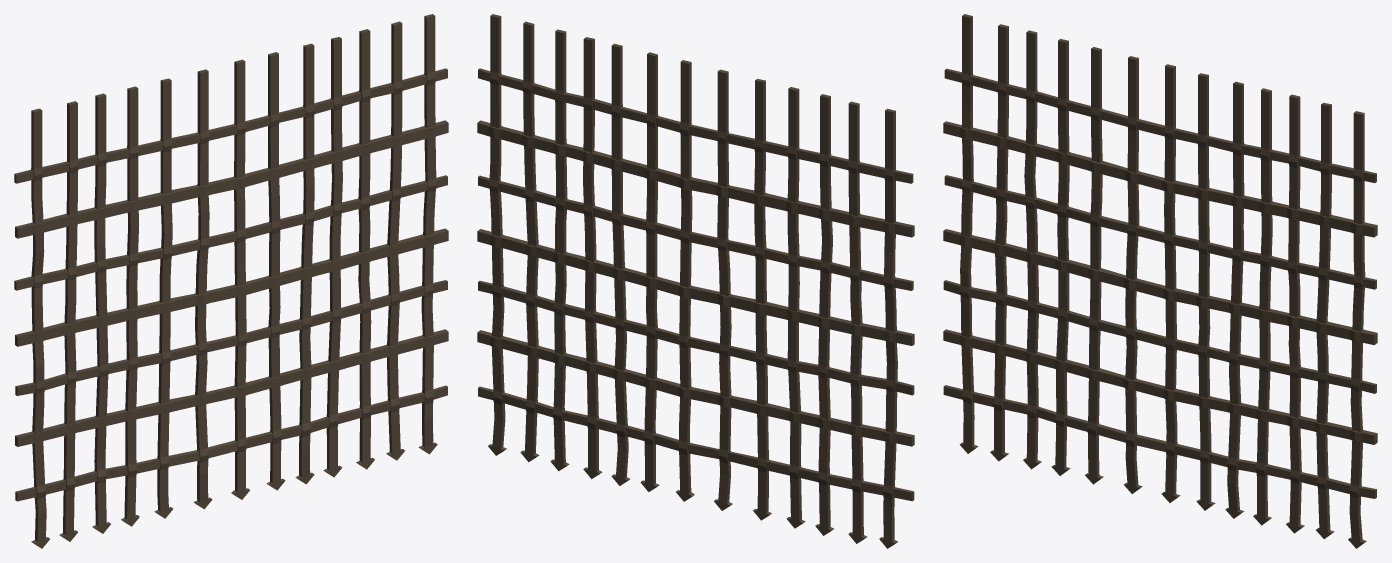
File: metal_grate.gltf
The picture shows the model from 3 angles, left to right: view 1: azimuth 30°, elevation 25°; view 2: azimuth 150°, elevation 25°; view 3: azimuth 330°, elevation 25°; orthographic projection.
Parts seen in each view (by area): view 1: Portcullis_Metal; view 2: Portcullis_Metal; view 3: Portcullis_Metal.
Part boxes in pixels (<box>): Portcullis_Metal: <box>14,14,448,548</box>; Portcullis_Metal: <box>477,14,914,548</box>; Portcullis_Metal: <box>943,14,1377,548</box>.
Size of the model in its own units: 4 by 3.88 by 0.1088.
1 material, 1 textured.
